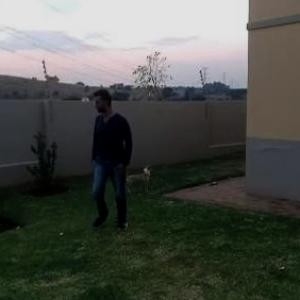follow: (91, 88, 135, 226)
